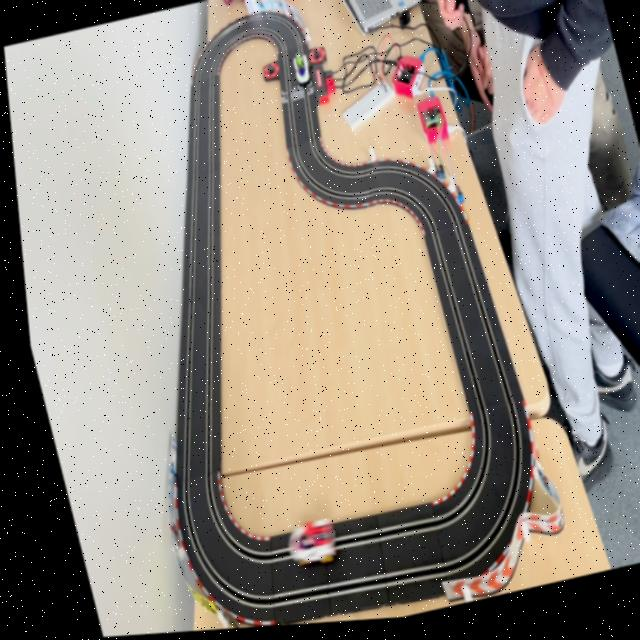mario: (271, 520, 334, 574)
yoshi: (289, 55, 311, 90)
